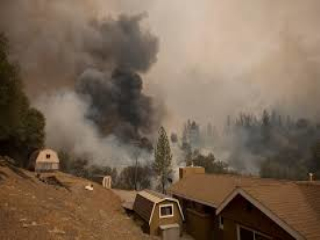smoke: (66, 18, 167, 162)
